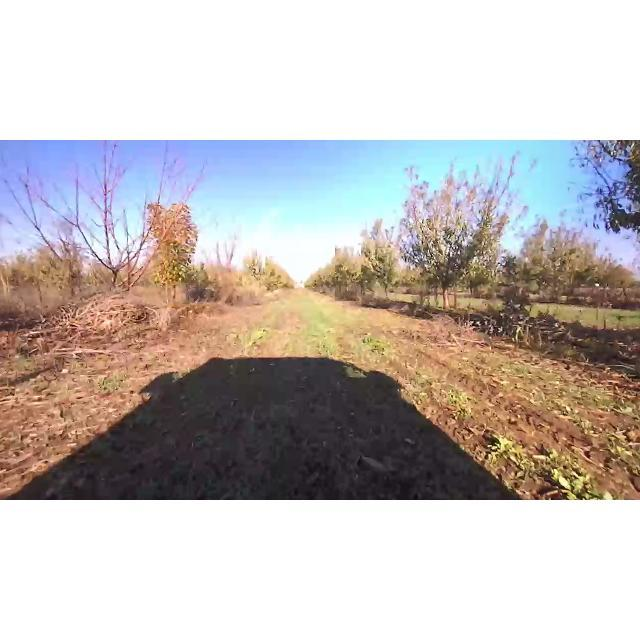tree: (4, 140, 206, 300), (394, 160, 532, 312), (141, 202, 199, 310), (352, 220, 400, 310), (212, 235, 248, 292), (335, 245, 361, 301)
